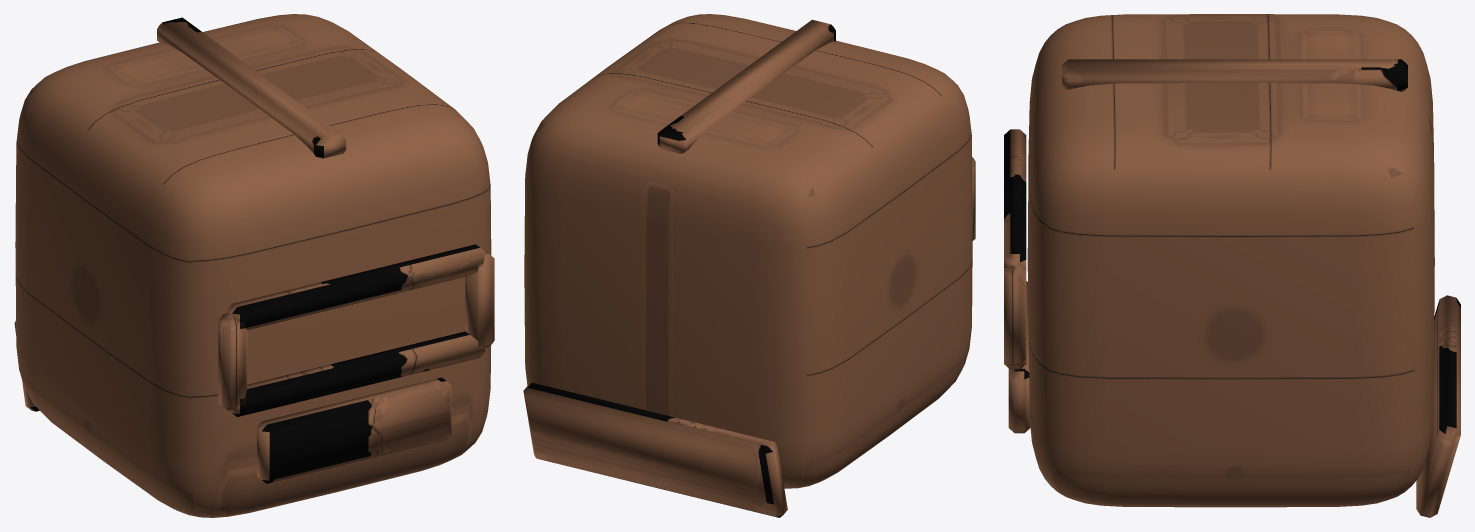
Rendered from Remache_Casco.fbx.
3 renders of one model, left to right at view 1: azimuth 30°, elevation 25°; view 2: azimuth 150°, elevation 25°; view 3: azimuth 270°, elevation 25°, orthographic. The views are drawn at different scales.
Parts seen in each view (by area): view 1: Remache_Casco; view 2: Remache_Casco; view 3: Remache_Casco.
Part boxes in pixels (<box>): Remache_Casco: <box>14,14,494,517</box>; Remache_Casco: <box>523,14,975,517</box>; Remache_Casco: <box>1004,14,1460,517</box>.
Bounding box in the file's own units: 1.94 × 2.07 × 2.2.
